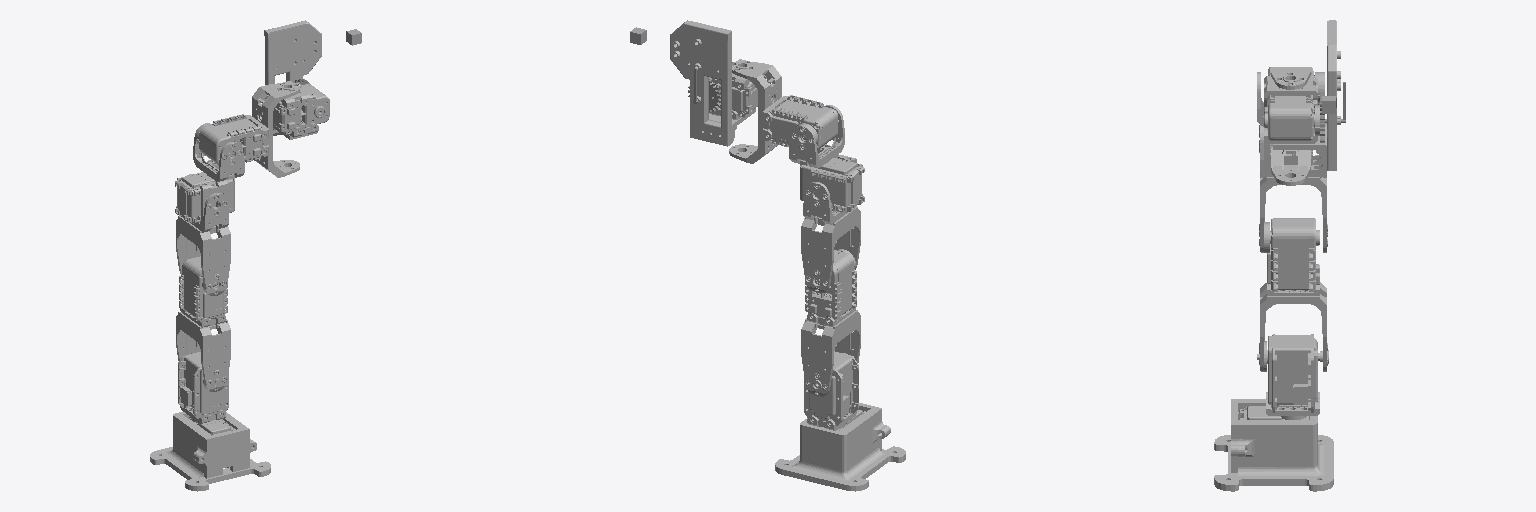
URDF robot description (urdf_config_files_v4):
<?xml version="1.0" encoding="utf-8"?>
<!-- This URDF was automatically created by SolidWorks to URDF Exporter! Originally created by [author] ([email redacted]) 
     Commit Version: 1.6.0-4-g7f85cfe  Build Version: 1.6.7995.38578
     For more information, please see http://wiki.ros.org/sw_urdf_exporter -->
<robot
  name="urdf_config_files_v4">
  <link
    name="base_link">
    <inertial>
      <origin
        xyz="-1.1556E-05 0.0011893 0.019693"
        rpy="0 0 0" />
      <mass
        value="0.11294" />
      <inertia
        ixx="5.0717E-05"
        ixy="-1.0317E-08"
        ixz="1.4933E-09"
        iyy="4.4074E-05"
        iyz="-5.8048E-07"
        izz="6.3337E-05" />
    </inertial>
    <visual>
      <origin
        xyz="0 0 0"
        rpy="0 0 0" />
      <geometry>
        <mesh
          filename="package://urdf_config_files_v4/meshes/base_link.STL" />
      </geometry>
      <material
        name="">
        <color
          rgba="0.75294 0.75294 0.75294 1" />
      </material>
    </visual>
    <collision>
      <origin
        xyz="0 0 0"
        rpy="0 0 0" />
      <geometry>
        <mesh
          filename="package://urdf_config_files_v4/meshes/base_link.STL" />
      </geometry>
    </collision>
  </link>
  <link
    name="link_1">
    <inertial>
      <origin
        xyz="0.00048577 0.02814 0.00026142"
        rpy="0 0 0" />
      <mass
        value="0.047197" />
      <inertia
        ixx="1.3061E-05"
        ixy="1.1697E-08"
        ixz="-4.7463E-09"
        iyy="8.4497E-06"
        iyz="-3.935E-07"
        izz="1.0623E-05" />
    </inertial>
    <visual>
      <origin
        xyz="0 0 0"
        rpy="0 0 0" />
      <geometry>
        <mesh
          filename="package://urdf_config_files_v4/meshes/link_1.STL" />
      </geometry>
      <material
        name="">
        <color
          rgba="0.75294 0.75294 0.75294 1" />
      </material>
    </visual>
    <collision>
      <origin
        xyz="0 0 0"
        rpy="0 0 0" />
      <geometry>
        <mesh
          filename="package://urdf_config_files_v4/meshes/link_1.STL" />
      </geometry>
    </collision>
  </link>
  <joint
    name="joint_1"
    type="revolute">
    <origin
      xyz="0 0.0135 0.045"
      rpy="1.5708 0 0" />
    <parent
      link="base_link" />
    <child
      link="link_1" />
    <axis
      xyz="0 1 0" />
    <limit
      lower="-2.618"
      upper="2.618"
      effort="1"
      velocity="1" />
  </joint>
  <link
    name="link_2">
    <inertial>
      <origin
        xyz="-0.00015352 0.068118 0.00012856"
        rpy="0 0 0" />
      <mass
        value="0.05941" />
      <inertia
        ixx="2.1222E-05"
        ixy="6.958E-08"
        ixz="1.4897E-09"
        iyy="1.2978E-05"
        iyz="1.9097E-07"
        izz="1.5451E-05" />
    </inertial>
    <visual>
      <origin
        xyz="0 0 0"
        rpy="0 0 0" />
      <geometry>
        <mesh
          filename="package://urdf_config_files_v4/meshes/link_2.STL" />
      </geometry>
      <material
        name="">
        <color
          rgba="0.75294 0.75294 0.75294 1" />
      </material>
    </visual>
    <collision>
      <origin
        xyz="0 0 0"
        rpy="0 0 0" />
      <geometry>
        <mesh
          filename="package://urdf_config_files_v4/meshes/link_2.STL" />
      </geometry>
    </collision>
  </link>
  <joint
    name="joint_2"
    type="revolute">
    <origin
      xyz="0.0005 0.0413 0"
      rpy="0 0 0" />
    <parent
      link="link_1" />
    <child
      link="link_2" />
    <axis
      xyz="0 0 1" />
    <limit
      lower="-2.618"
      upper="2.618"
      effort="1"
      velocity="1" />
  </joint>
  <link
    name="link_3">
    <inertial>
      <origin
        xyz="0.0016661 -0.0011685 -0.067826"
        rpy="0 0 0" />
      <mass
        value="0.066446" />
      <inertia
        ixx="1.8638E-05"
        ixy="1.045E-08"
        ixz="-1.476E-09"
        iyy="1.9244E-05"
        iyz="2.706E-07"
        izz="1.9098E-05" />
    </inertial>
    <visual>
      <origin
        xyz="0 0 0"
        rpy="0 0 0" />
      <geometry>
        <mesh
          filename="package://urdf_config_files_v4/meshes/link_3.STL" />
      </geometry>
      <material
        name="">
        <color
          rgba="0.75294 0.75294 0.75294 1" />
      </material>
    </visual>
    <collision>
      <origin
        xyz="0 0 0"
        rpy="0 0 0" />
      <geometry>
        <mesh
          filename="package://urdf_config_files_v4/meshes/link_3.STL" />
      </geometry>
    </collision>
  </link>
  <joint
    name="joint_3"
    type="revolute">
    <origin
      xyz="0 0.0935 0"
      rpy="1.5708 -1.5708 0" />
    <parent
      link="link_2" />
    <child
      link="link_3" />
    <axis
      xyz="1 0 0" />
    <limit
      lower="-2.618"
      upper="2.618"
      effort="1"
      velocity="1" />
  </joint>
  <link
    name="link_4">
    <inertial>
      <origin
        xyz="-0.00045768 -0.011869 -4.4208E-14"
        rpy="0 0 0" />
      <mass
        value="0.0072915" />
      <inertia
        ixx="3.2351E-06"
        ixy="-1.3597E-08"
        ixz="-1.5335E-17"
        iyy="2.8771E-06"
        iyz="7.4997E-18"
        izz="1.2258E-06" />
    </inertial>
    <visual>
      <origin
        xyz="0 0 0"
        rpy="0 0 0" />
      <geometry>
        <mesh
          filename="package://urdf_config_files_v4/meshes/link_4.STL" />
      </geometry>
      <material
        name="">
        <color
          rgba="0.75294 0.75294 0.75294 1" />
      </material>
    </visual>
    <collision>
      <origin
        xyz="0 0 0"
        rpy="0 0 0" />
      <geometry>
        <mesh
          filename="package://urdf_config_files_v4/meshes/link_4.STL" />
      </geometry>
    </collision>
  </link>
  <joint
    name="joint_4"
    type="revolute">
    <origin
      xyz="0.0015 -0.0147 -0.098042"
      rpy="1.5708 -0.03835 1.5708" />
    <parent
      link="link_3" />
    <child
      link="link_4" />
    <axis
      xyz="0.038341 0.99926 0" />
    <limit
      lower="-2.618"
      upper="2.618"
      effort="1"
      velocity="1" />
  </joint>
  <link
    name="link_5">
    <inertial>
      <origin
        xyz="-0.013503 -0.057591 0.0067825"
        rpy="0 0 0" />
      <mass
        value="0.13855" />
      <inertia
        ixx="3.315E-05"
        ixy="-2.2874E-06"
        ixz="-8.8417E-09"
        iyy="4.7741E-05"
        iyz="1.7656E-08"
        izz="6.0236E-05" />
    </inertial>
    <visual>
      <origin
        xyz="0 0 0"
        rpy="0 0 0" />
      <geometry>
        <mesh
          filename="package://urdf_config_files_v4/meshes/link_5.STL" />
      </geometry>
      <material
        name="">
        <color
          rgba="0.75294 0.75294 0.75294 1" />
      </material>
    </visual>
    <collision>
      <origin
        xyz="0 0 0"
        rpy="0 0 0" />
      <geometry>
        <mesh
          filename="package://urdf_config_files_v4/meshes/link_5.STL" />
      </geometry>
    </collision>
  </link>
  <joint
    name="joint_5"
    type="revolute">
    <origin
      xyz="-0.0010336 -0.026938 0"
      rpy="3.1416 0 1.5324" />
    <parent
      link="link_4" />
    <child
      link="link_5" />
    <axis
      xyz="0 0 1" />
    <limit
      lower="0"
      upper="5.236"
      effort="1"
      velocity="1" />
  </joint>
  <link
    name="link_6">
    <inertial>
      <origin
        xyz="-8.6253E-11 0.00085662 -0.002877"
        rpy="0 0 0" />
      <mass
        value="0.0020958" />
      <inertia
        ixx="1.6915E-07"
        ixy="3.9043E-17"
        ixz="1.1547E-15"
        iyy="1.3473E-07"
        iyz="2.5356E-08"
        izz="2.2939E-07" />
    </inertial>
    <visual>
      <origin
        xyz="0 0 0"
        rpy="0 0 0" />
      <geometry>
        <mesh
          filename="package://urdf_config_files_v4/meshes/link_6.STL" />
      </geometry>
      <material
        name="">
        <color
          rgba="0.62745 0.62745 0.62745 1" />
      </material>
    </visual>
    <collision>
      <origin
        xyz="0 0 0"
        rpy="0 0 0" />
      <geometry>
        <mesh
          filename="package://urdf_config_files_v4/meshes/link_6.STL" />
      </geometry>
    </collision>
  </link>
  <joint
    name="joint_6"
    type="revolute">
    <origin
      xyz="-0.01725 -0.093 0.021"
      rpy="3.1416 0 -1.5708" />
    <parent
      link="link_5" />
    <child
      link="link_6" />
    <axis
      xyz="0 0 1" />
    <limit
      lower="-1.571"
      upper="0"
      effort="1"
      velocity="1" />
  </joint>
  <link 
  name="grasping_frame">
    <inertial>
      <origin rpy="0 0 0" xyz="0 0 0" />
      <mass value="0.0001" />
      <cuboid_inertia mass="0.0001" x="0.001" y="0.001" z="0.001" />
      <inertia ixx="1.0" ixy="0.0" ixz="0.0" iyy="100.0" iyz="0.0" izz="1.0" />
    </inertial>

    <visual>
      <origin xyz="0 0 0" />
      <geometry>
        <!--
        <box size="${grasp_frame_len} ${grasp_frame_width} ${grasp_frame_height}" />
				-->
        <box size="0.01 0.01 0.01"/>
      </geometry>
    </visual>
  </link>
  <joint name="grasping_frame_joint" type="fixed">
    <parent link="link_5" />
    <child link="grasping_frame" />
    <origin rpy="0 0 0" xyz="-0.058 -0.1535 0.027" />
  </joint>
</robot>

--- Facts derived from the render (not from the file) ---
Views: 3 orthographic renders of the robot side by side, from view 1: azimuth 30°, elevation 25°; view 2: azimuth 150°, elevation 25°; view 3: azimuth 270°, elevation 25°.
Model urdf_config_files_v4 with 8 links and 7 joints (6 revolute, 1 fixed), rooted at base_link, posed all joints at 0.
Visible links, largest first — view 1: link_5, base_link, link_3, link_2, link_1, link_4; view 2: link_5, link_3, base_link, link_2, link_1, link_4; view 3: base_link, link_5, link_2, link_1, link_3.
Link boxes in pixels (x1=…): link_5: x1=196, y1=20, x2=329, y2=177; base_link: x1=150, y1=412, x2=270, y2=491; link_3: x1=175, y1=172, x2=234, y2=295; link_2: x1=176, y1=256, x2=230, y2=391; link_1: x1=178, y1=352, x2=228, y2=423; link_4: x1=193, y1=123, x2=244, y2=181; link_5: x1=670, y1=20, x2=837, y2=163; link_3: x1=800, y1=154, x2=864, y2=293; base_link: x1=775, y1=403, x2=905, y2=491; link_2: x1=801, y1=249, x2=860, y2=396; link_1: x1=804, y1=351, x2=858, y2=430; link_4: x1=789, y1=105, x2=844, y2=167; base_link: x1=1214, y1=399, x2=1333, y2=491; link_5: x1=1264, y1=20, x2=1340, y2=185; link_2: x1=1259, y1=218, x2=1328, y2=371; link_1: x1=1257, y1=334, x2=1319, y2=415; link_3: x1=1259, y1=123, x2=1327, y2=252.
Bounding box of the posed robot: 0.2162 × 0.0935 × 0.388 m (x, y, z).
7 mesh visuals loaded from 7 distinct referenced files (7 binary STL).